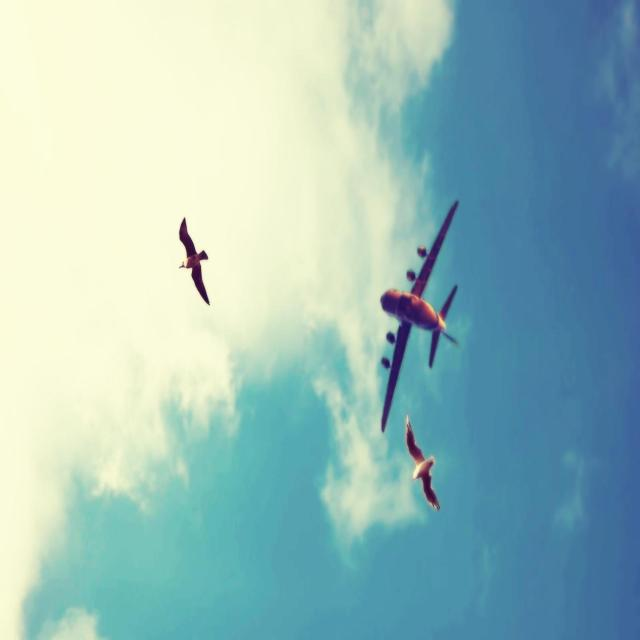airplane: (380, 199, 460, 432)
